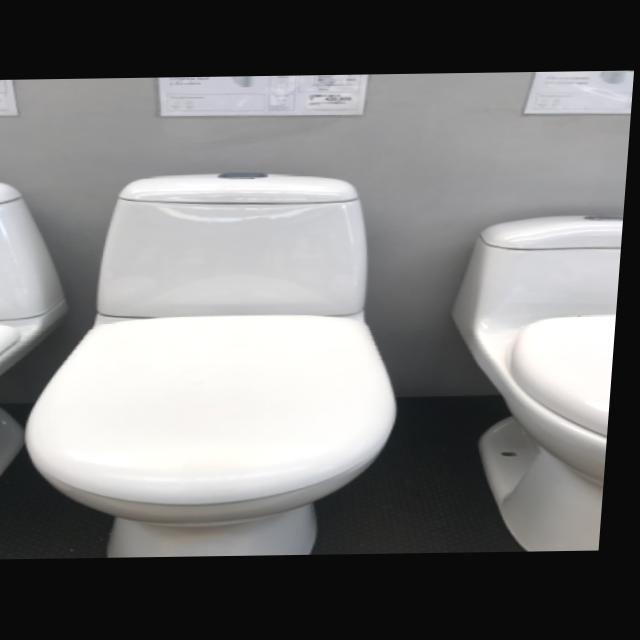toilet: (23, 170, 418, 559), (441, 216, 626, 554)
